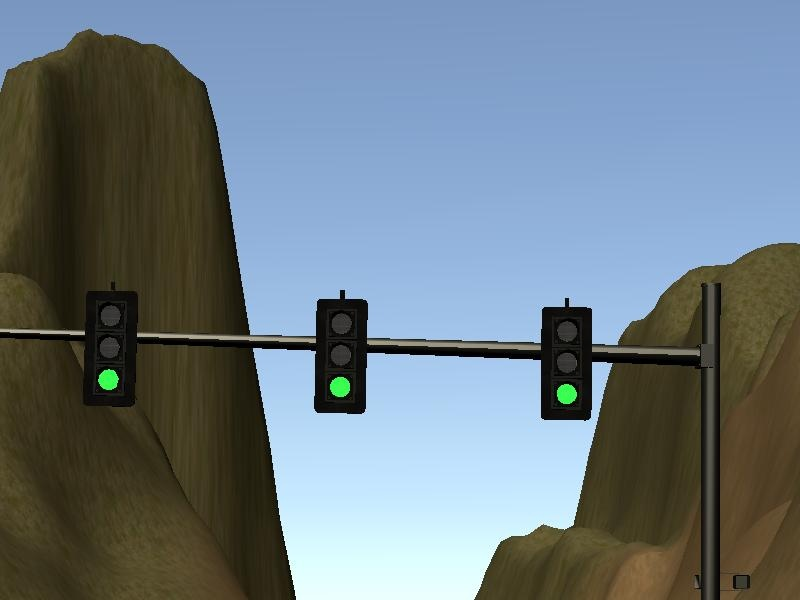GREEN: (315, 299, 367, 412), (85, 293, 136, 408), (541, 308, 591, 421)
